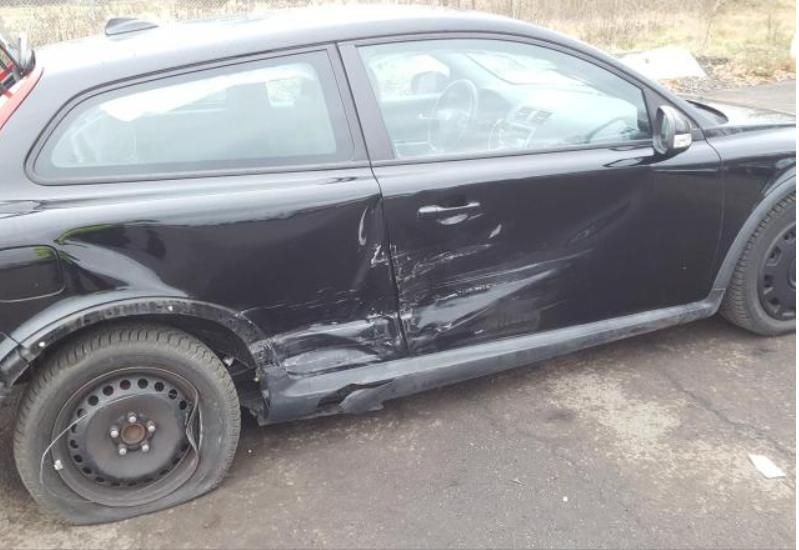Back-bumper: (1, 331, 29, 398)
Back-wheel: (15, 325, 240, 525)
Back-window: (33, 49, 354, 178)
Back-windshield: (1, 70, 31, 108)
Fender: (712, 154, 797, 288)
Front-door: (337, 33, 724, 358)
Front-wheel: (718, 193, 797, 335)
Front-window: (356, 39, 652, 159)
Hood: (676, 93, 796, 158)
Mirror: (653, 105, 692, 160)
Quarter-panel: (0, 161, 410, 385)
Rocker-panel: (260, 289, 725, 427)
Roof: (40, 3, 536, 86)
Trunk: (0, 34, 43, 129)
